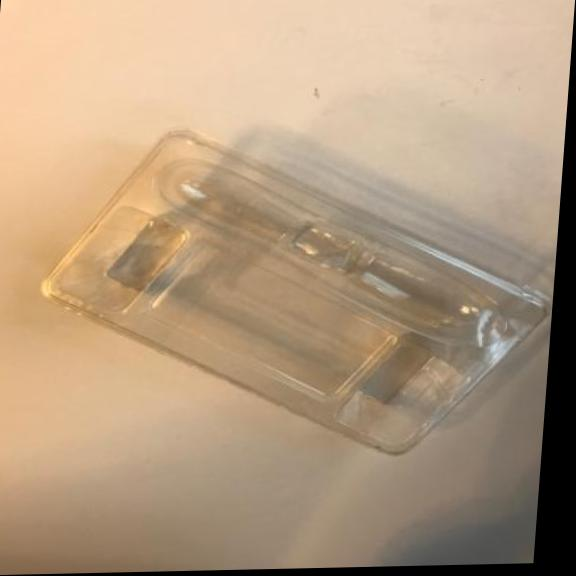Plastik: (13, 113, 565, 470)
